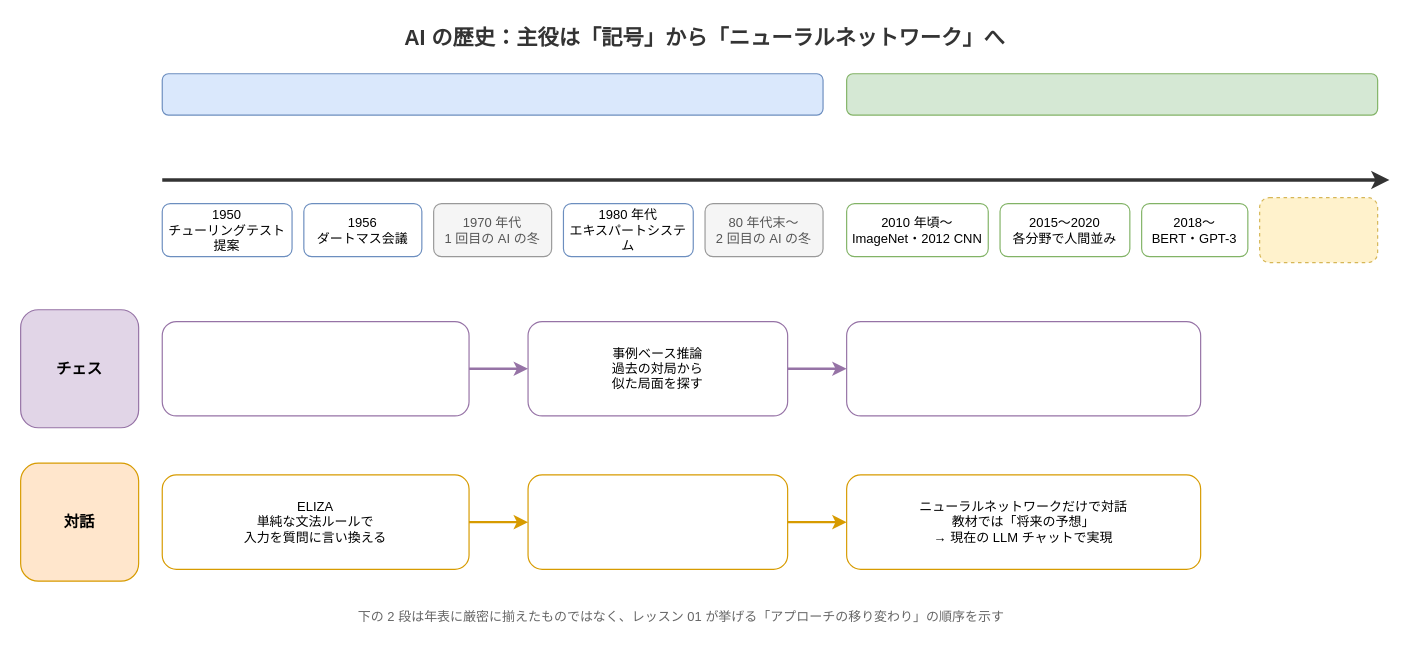
Some shapes in this 1421 by 654 pixel diagram are drawn without their labels. The centre of each missing label's shape, as x and y in pixels:
"2022〜 対話型 LLM （教材の外）" goes at point 1318,229.
"ニューラルネットワークが主流" goes at point 1111,94.
"ニューラルネットワーク＋強化学習 自分自身と大量に対局して学ぶ" goes at point 1023,368.
"ハイブリッド型アシスタント 音声・意図の認識は ニューラルネットワーク、 実行はルール・アルゴリズム" goes at point 657,521.
"探索 数手先まで読んで最善手を選ぶ （アルファベータ枝刈り）" goes at point 315,368.
"記号的推論が主流" goes at point 492,94.
